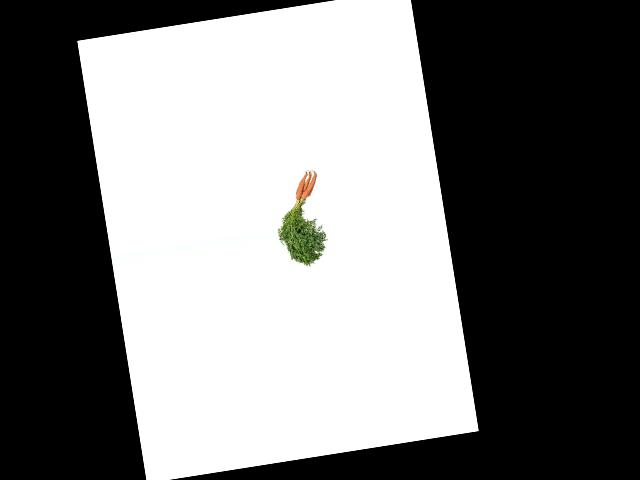carrot: (298, 174, 320, 201)
